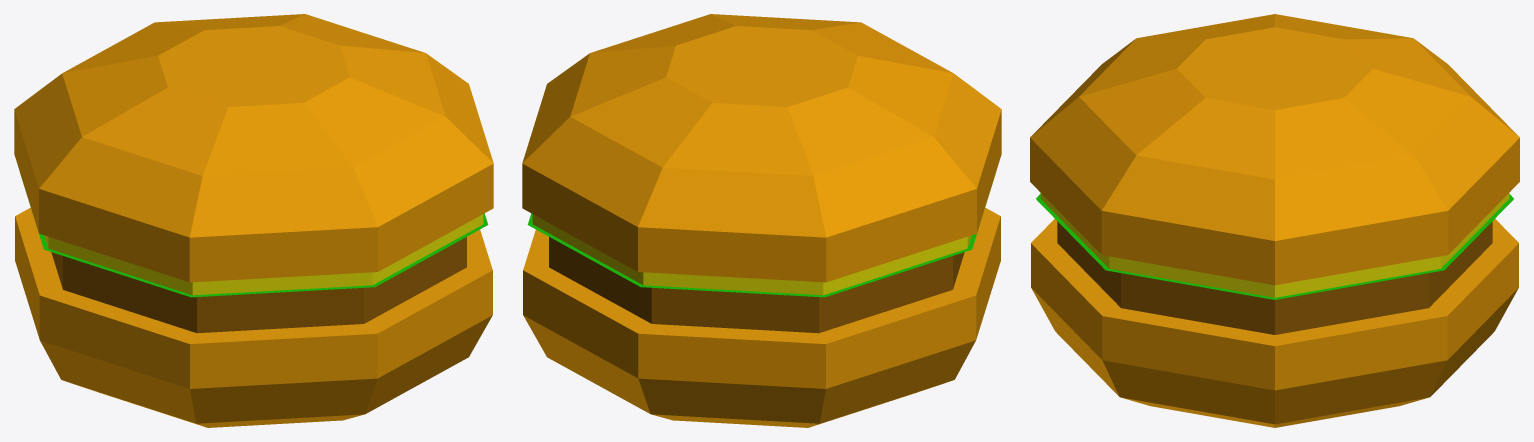
The model's file is bunger.fbx.
3 views of the same model, side by side, from view 1: azimuth 30°, elevation 25°; view 2: azimuth 150°, elevation 25°; view 3: azimuth 270°, elevation 25° (orthographic).
Parts seen in each view (by area): view 1: Cylinder; view 2: Cylinder; view 3: Cylinder.
Boxes of the visible parts, left/top/right/bottom form: Cylinder: left=14, top=14, right=493, bottom=427; Cylinder: left=522, top=14, right=1001, bottom=427; Cylinder: left=1030, top=14, right=1519, bottom=427.
Bounding box in the file's own units: 100 × 64.42 × 100.
